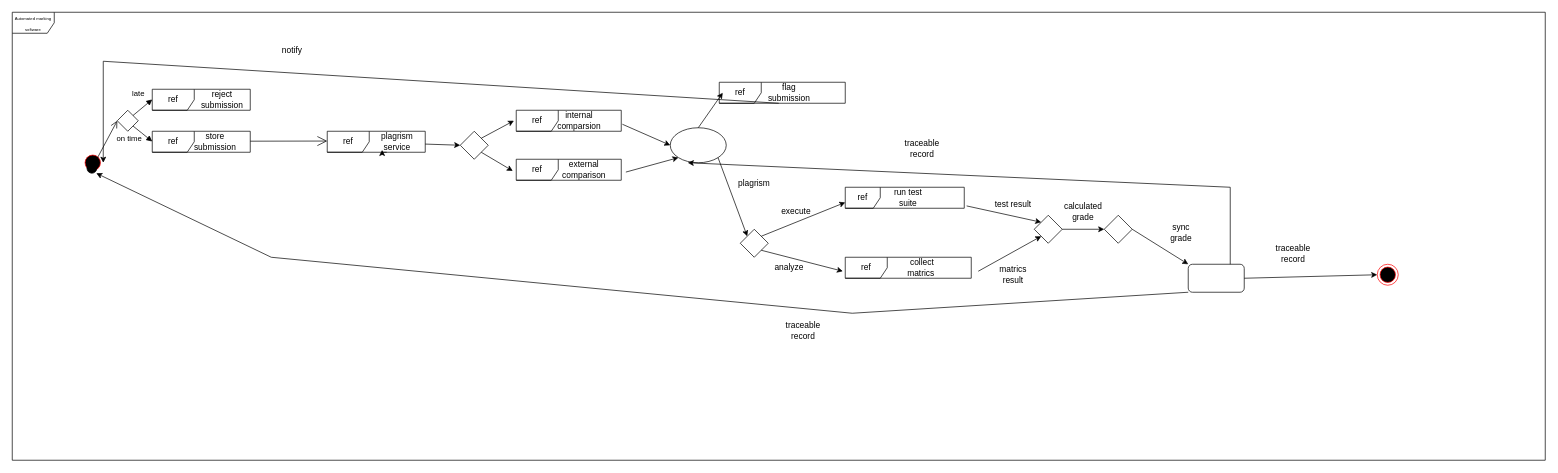
Some shapes in this 1558 by 473 pixel diagram are drawn without their labels. Each missing label, with the centre of its shape:
audit log: point 1216,278
professor: point 698,145
